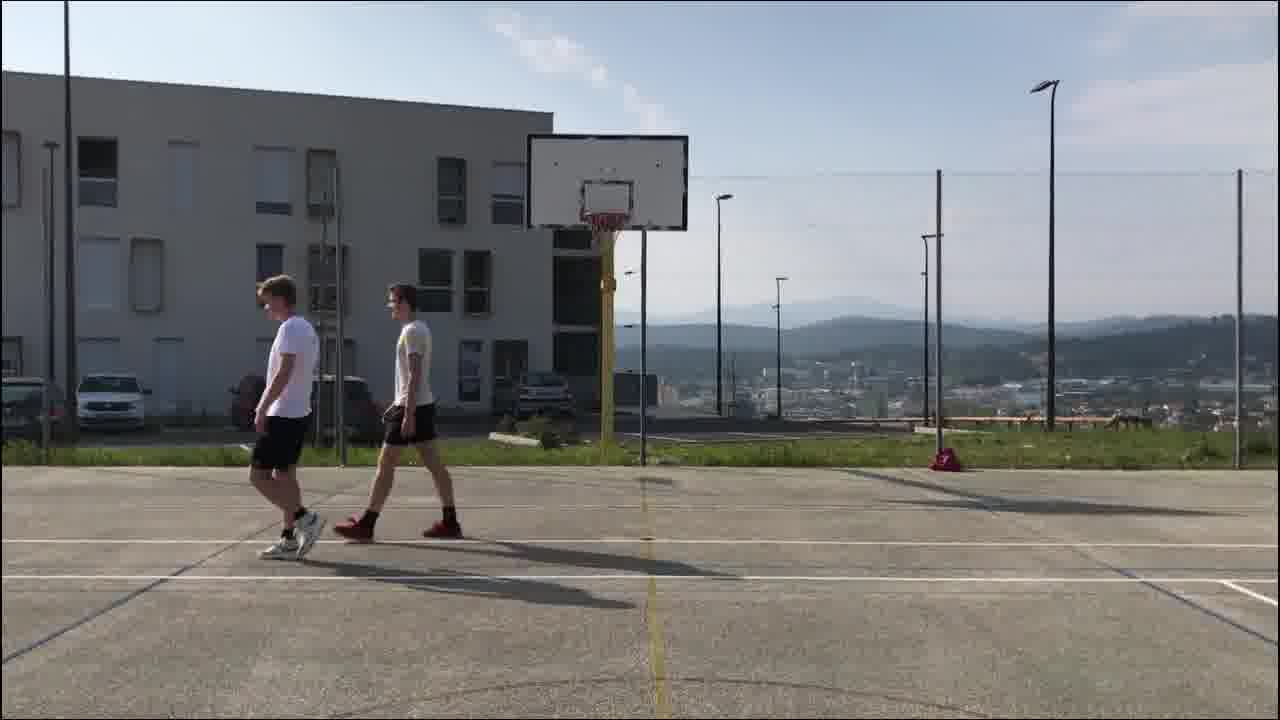jugador: (322, 274, 475, 546)
